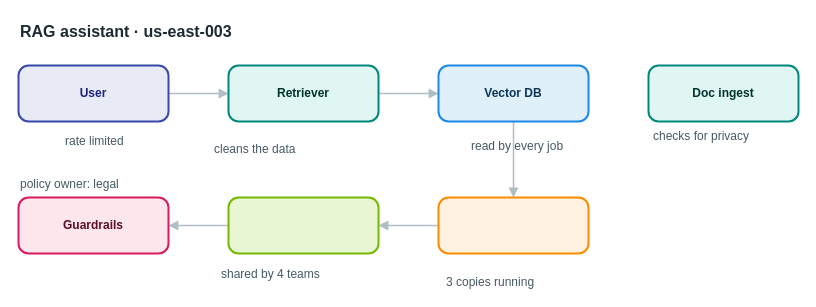
Some shapes in this 816 by 307 pixel diagram are drawn without their labels. The centre of each missing label's shape, as x and y in pixels:
"Nemotron" goes at point 303,225.
"Reranker" goes at point 513,225.
